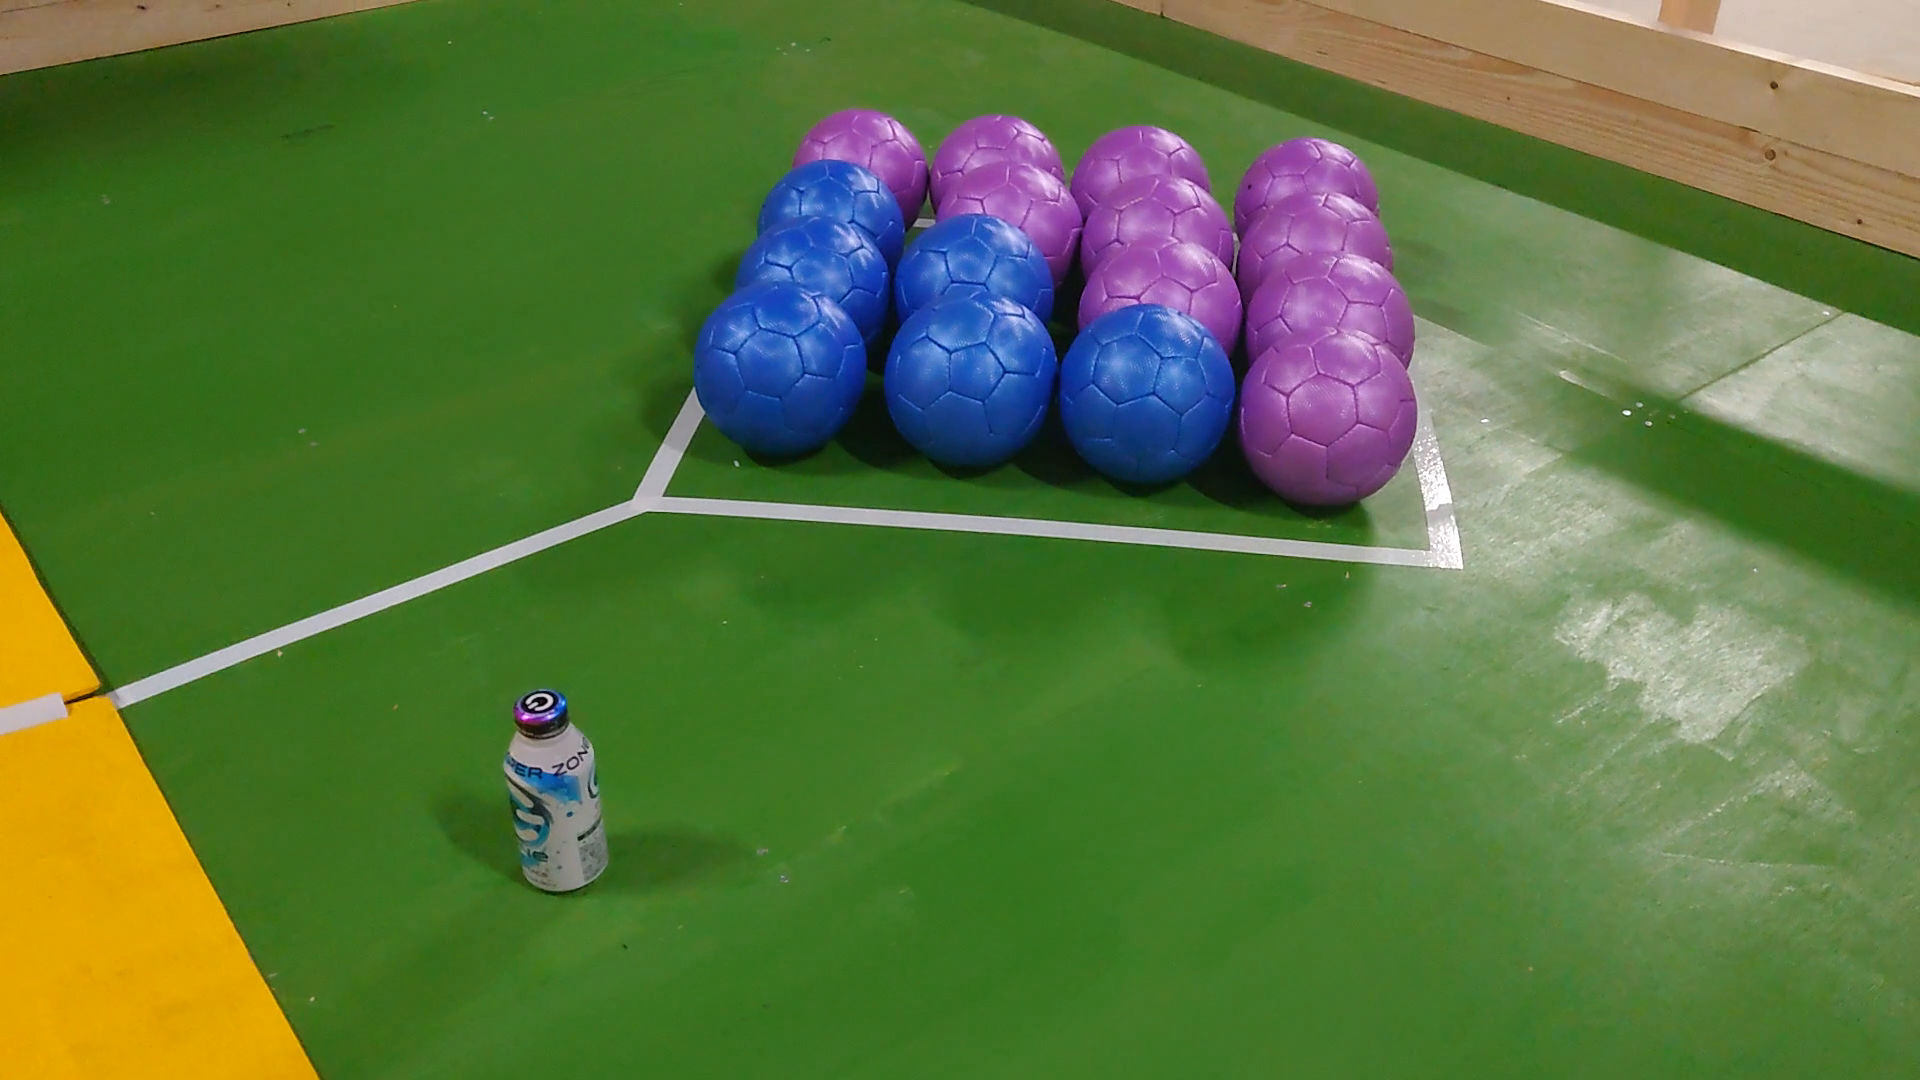blue: (882, 290, 1062, 477), (692, 274, 869, 460), (1062, 307, 1234, 489), (889, 212, 1058, 314), (738, 215, 889, 316), (754, 157, 907, 255)
purple: (1241, 327, 1418, 506), (1247, 248, 1418, 369), (1081, 232, 1244, 340), (931, 160, 1077, 265), (1084, 170, 1234, 268), (1232, 137, 1385, 225), (1241, 186, 1398, 272), (790, 108, 931, 203), (927, 115, 1064, 196), (1075, 124, 1215, 199)
